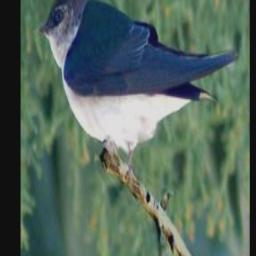Swallow: (36, 0, 240, 186)
